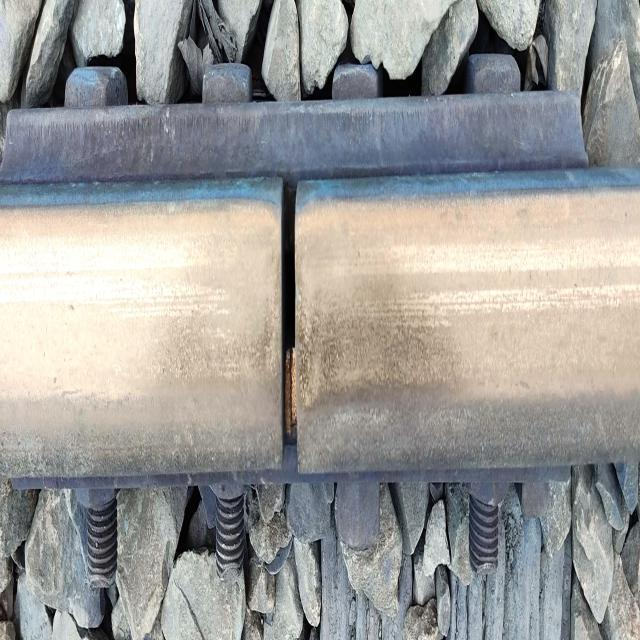Good Joint: (1, 39, 564, 585)
